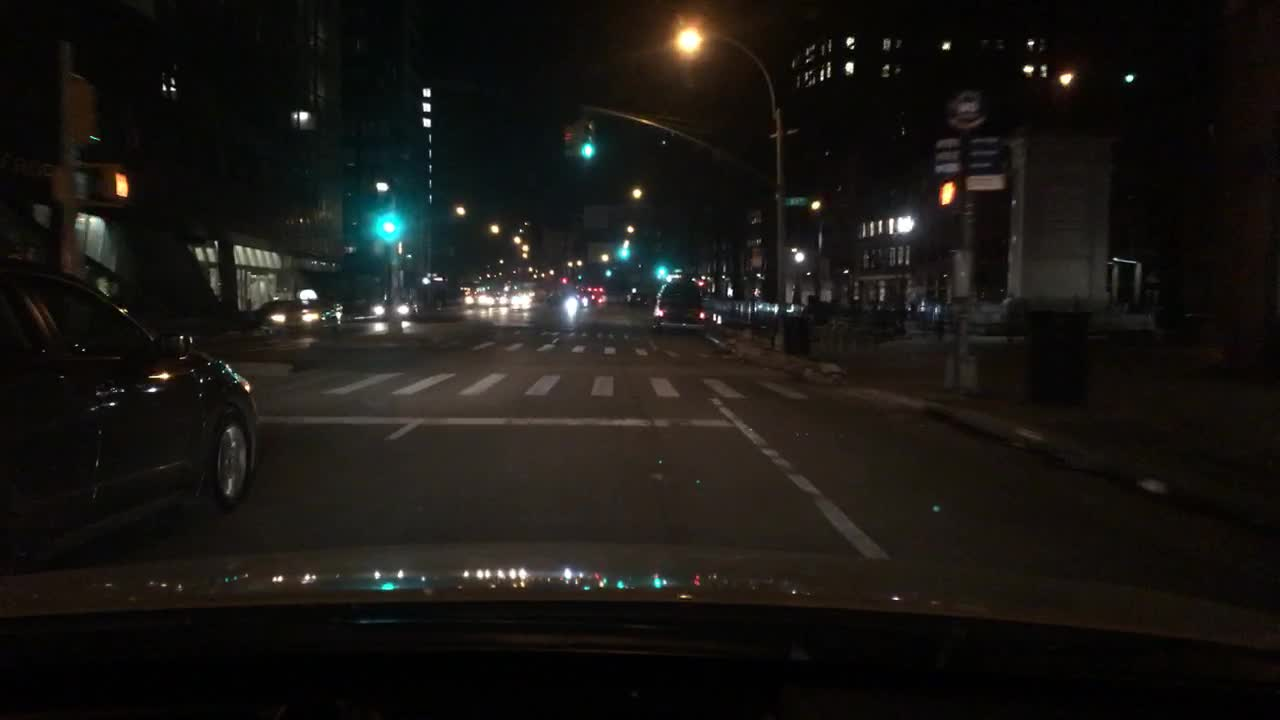car: (0, 256, 260, 572), (266, 285, 342, 329), (651, 277, 707, 334), (371, 288, 420, 320), (562, 293, 587, 312), (624, 287, 646, 305), (509, 292, 535, 307), (589, 287, 611, 302), (486, 293, 508, 307), (462, 297, 486, 307)
traffic light: (67, 72, 96, 145), (99, 157, 131, 201), (50, 167, 89, 202), (936, 177, 967, 212), (579, 116, 595, 157), (376, 212, 398, 238), (560, 121, 575, 155), (789, 248, 806, 266), (651, 263, 668, 280), (614, 245, 631, 260)
traffic sign: (967, 135, 1002, 187), (946, 83, 984, 126), (931, 135, 963, 170), (783, 194, 811, 206)
